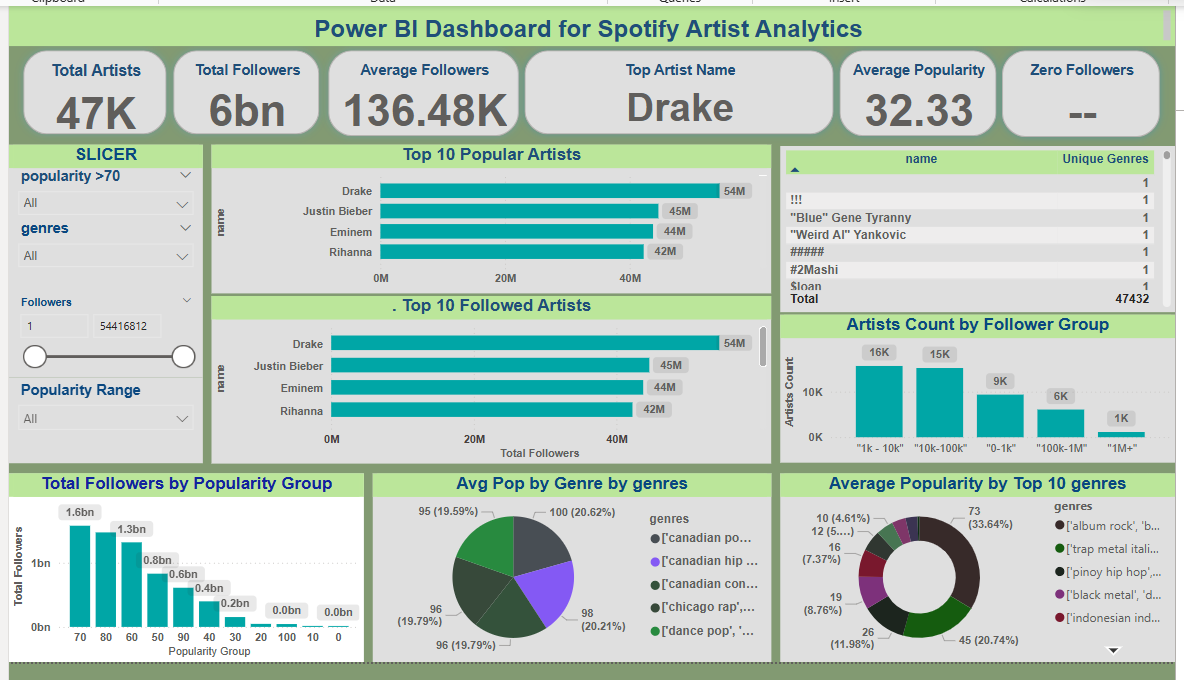

What the dashboard file says about the page in this screenshot:
{"tool":"powerbi","page":{"name":"Page 1","canvas":[1280,720],"ordinal":0},"visuals":[{"type":"cardVisual","fields":{"Data":["artists spotify data set.Total Artists"]},"box":[0,32.9,189.4,124.9],"z":0},{"type":"cardVisual","fields":{"Data":["artists spotify data set.Total Followers"]},"box":[164.7,32.9,192.1,124.9],"z":1000},{"type":"cardVisual","fields":{"Data":["artists spotify data set.Average Followers"]},"box":[334.8,32.9,241.5,126.2],"z":2000},{"type":"cardVisual","fields":{"Data":["artists spotify data set.Top Artist Name"]},"box":[550.3,32.9,371.9,124.9],"z":3000},{"type":"clusteredBarChart","title":". Top 10 Followed Artists","fields":{"Category":["artists spotify data set.name"],"Y":["artists spotify data set.Total Followers"]},"box":[222.3,318.4,614.8,183.9],"z":4000},{"type":"cardVisual","fields":{"Data":["artists spotify data set.Average Popularity"]},"box":[896.1,32.9,204.5,126.2],"z":5000},{"type":"cardVisual","fields":{"Data":["artists spotify data set.Zero Followers"]},"box":[1074.4,32.9,205.8,127.6],"z":6000},{"type":"slicer","title":"SLICER","fields":{"Values":["artists spotify data set.Popularity"]},"box":[0,152.3,212.7,78.2],"z":7000},{"type":"tableEx","fields":{"Values":["artists spotify data set.name","artists spotify data set.Unique Genres"]},"box":[846.6,154.3,433.7,182.1],"z":8000},{"type":"barChart","title":"Top 10 Popular Artists","fields":{"Category":["artists spotify data set.name"],"Y":["artists spotify data set.Top Artist"]},"box":[222.3,152.3,614.8,163.3],"z":9000},{"type":"columnChart","fields":{"Category":["artists spotify data set.Follower Group"],"Y":["artists spotify data set.Artists Count"]},"box":[846.6,339.2,433.7,162.6],"z":10000},{"type":"lineChart","fields":{"Category":["artists spotify data set.genres"],"Y":["artists spotify data set.Average Popularity"]},"box":[846.7,513.2,433.6,207.2],"z":11000},{"type":"pieChart","fields":{"Category":["artists spotify data set.genres"],"Y":["artists spotify data set.Avg Pop by Genre"]},"box":[399,512.9,437.9,207.1],"z":12000},{"type":"scatterChart","title":"Popularity vs Fanbase","fields":{"X":["artists spotify data set.Total Followers"],"Y":["artists spotify data set.popularity"],"Category":["artists spotify data set.name"],"Series":["artists spotify data set.genres"]},"box":[0,513.2,388.3,207.2],"z":13000},{"type":"slicer","fields":{"Values":["artists spotify data set.genres"]},"box":[0,230.5,212.7,82.3],"z":14000},{"type":"slicer","fields":{"Values":["artists spotify data set.followers"]},"box":[0,312.9,212.7,94.7],"z":15000},{"type":"slicer","fields":{"Values":["artists spotify data set.Popularity Range"]},"box":[0,407.5,212.7,94.7],"z":16000},{"type":"textbox","box":[0,0,1280.3,43.9],"z":16001}]}

Visuals, with their boxes in screenshot pixels (x1, y1, x2, y2):
cardVisual - artists spotify data set.Total Artists: (6, 33, 179, 147)
cardVisual - artists spotify data set.Total Followers: (156, 33, 332, 147)
cardVisual - artists spotify data set.Average Followers: (312, 33, 532, 148)
cardVisual - artists spotify data set.Top Artist Name: (508, 33, 847, 147)
". Top 10 Followed Artists" clusteredBarChart: (209, 294, 770, 461)
cardVisual - artists spotify data set.Average Popularity: (824, 33, 1010, 148)
cardVisual - artists spotify data set.Zero Followers: (986, 33, 1174, 149)
"SLICER" slicer: (6, 142, 200, 213)
tableEx - artists spotify data set.name x artists spotify data set.Unique Genres: (778, 144, 1174, 310)
"Top 10 Popular Artists" barChart: (209, 142, 770, 291)
columnChart - artists spotify data set.Follower Group x artists spotify data set.Artists Count: (778, 313, 1174, 461)
lineChart - artists spotify data set.genres x artists spotify data set.Average Popularity: (779, 471, 1174, 660)
pieChart - artists spotify data set.genres x artists spotify data set.Avg Pop by Genre: (370, 471, 770, 660)
"Popularity vs Fanbase" scatterChart: (6, 471, 360, 660)
slicer - artists spotify data set.genres: (6, 213, 200, 288)
slicer - artists spotify data set.followers: (6, 289, 200, 375)
slicer - artists spotify data set.Popularity Range: (6, 375, 200, 461)
textbox: (6, 3, 1174, 43)
